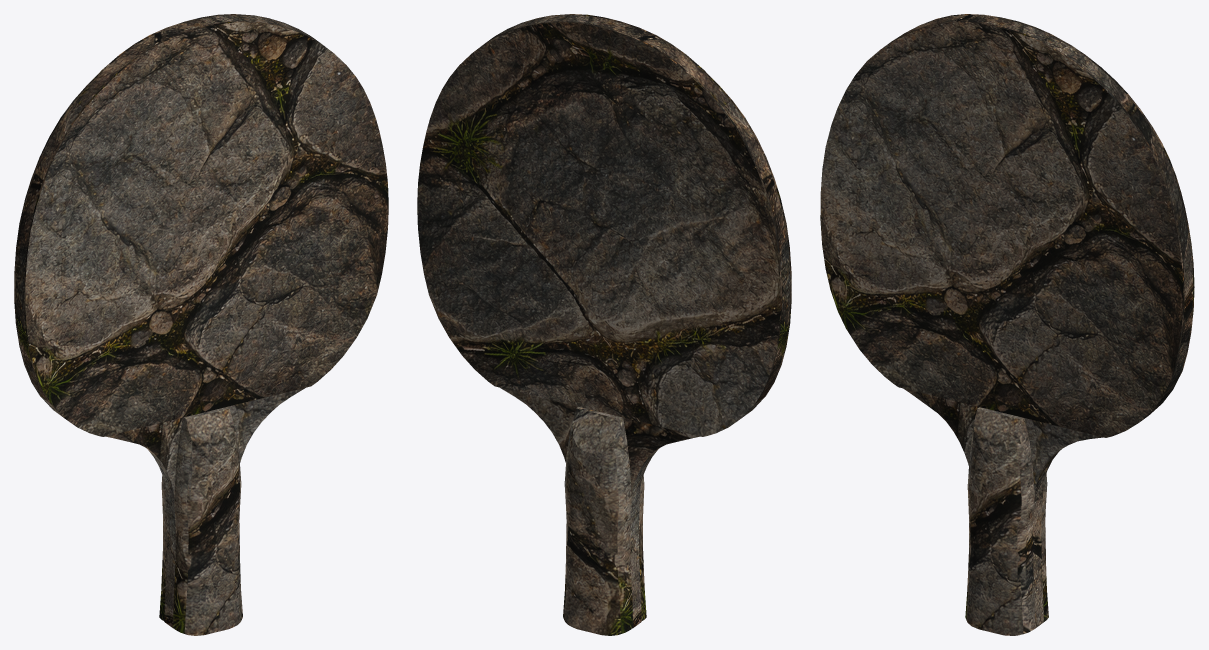
Rendered from Paleta_Piedra.fbx.
3 renders of one model, left to right at view 1: azimuth 30°, elevation 25°; view 2: azimuth 150°, elevation 25°; view 3: azimuth 330°, elevation 25°, orthographic.
Visible parts, largest first — view 1: Plastic clasic, Line032; view 2: Plastic clasic, Line032; view 3: Plastic clasic, Line032.
Boxes of the visible parts, x1,y1,x2,y2 form: Plastic clasic: (14, 14, 388, 436); Line032: (15, 15, 319, 635); Plastic clasic: (417, 14, 791, 436); Line032: (486, 15, 790, 635); Plastic clasic: (820, 14, 1194, 437); Line032: (883, 15, 1193, 635).
Bounding box in the file's own units: 14.7 × 23.11 × 2.21.
Materials: 2 (2 with a texture image).
